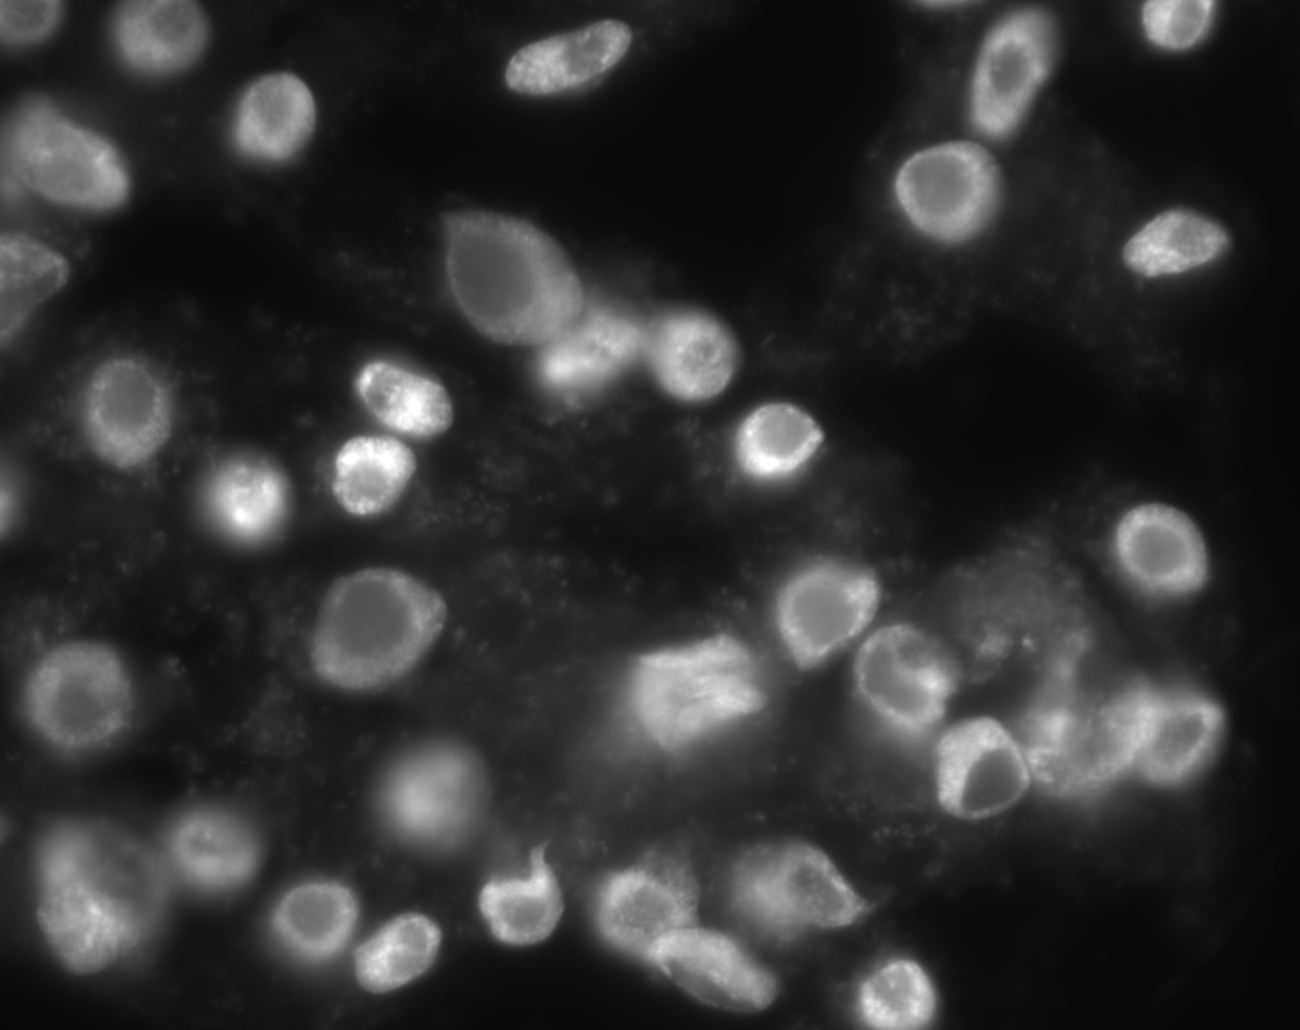Others: (849, 541, 1245, 839), (177, 850, 524, 1008), (27, 795, 231, 998), (604, 599, 830, 775), (410, 195, 631, 371), (276, 562, 478, 741), (930, 511, 1142, 678), (337, 672, 556, 831), (757, 515, 968, 678), (950, 653, 1163, 813), (1055, 653, 1249, 826), (126, 583, 314, 759), (925, 581, 1132, 740), (743, 587, 943, 748), (835, 593, 1041, 748), (732, 418, 941, 570), (28, 312, 200, 496), (972, 459, 1175, 613), (656, 837, 869, 981), (33, 640, 218, 805), (846, 114, 1044, 267), (253, 655, 463, 798), (121, 756, 320, 904), (743, 854, 956, 992), (866, 21, 1069, 165), (1, 746, 170, 917), (439, 760, 632, 907), (157, 837, 343, 988), (1059, 576, 1241, 730), (159, 535, 338, 690), (563, 848, 754, 992), (259, 761, 450, 901), (360, 749, 539, 894), (745, 283, 945, 412), (1064, 472, 1242, 616), (22, 589, 166, 765), (9, 188, 160, 354), (443, 261, 617, 404), (688, 379, 872, 513), (662, 896, 856, 1021), (1081, 179, 1250, 320), (670, 301, 863, 421), (352, 297, 519, 436), (559, 278, 737, 406), (42, 49, 191, 199), (933, 4, 1134, 115), (20, 102, 164, 254), (784, 905, 976, 1018), (282, 870, 457, 993), (207, 42, 351, 188), (355, 855, 516, 980), (310, 358, 465, 487), (477, 16, 673, 116), (75, 750, 204, 898), (21, 542, 149, 689), (85, 413, 213, 552), (186, 365, 321, 490), (55, 1, 214, 104), (493, 851, 612, 979), (291, 442, 427, 553), (181, 432, 308, 550), (1069, 1, 1235, 89), (1096, 51, 1211, 148), (716, 405, 829, 503), (1111, 207, 1216, 306), (394, 789, 496, 890), (80, 66, 175, 170), (198, 882, 288, 971)
